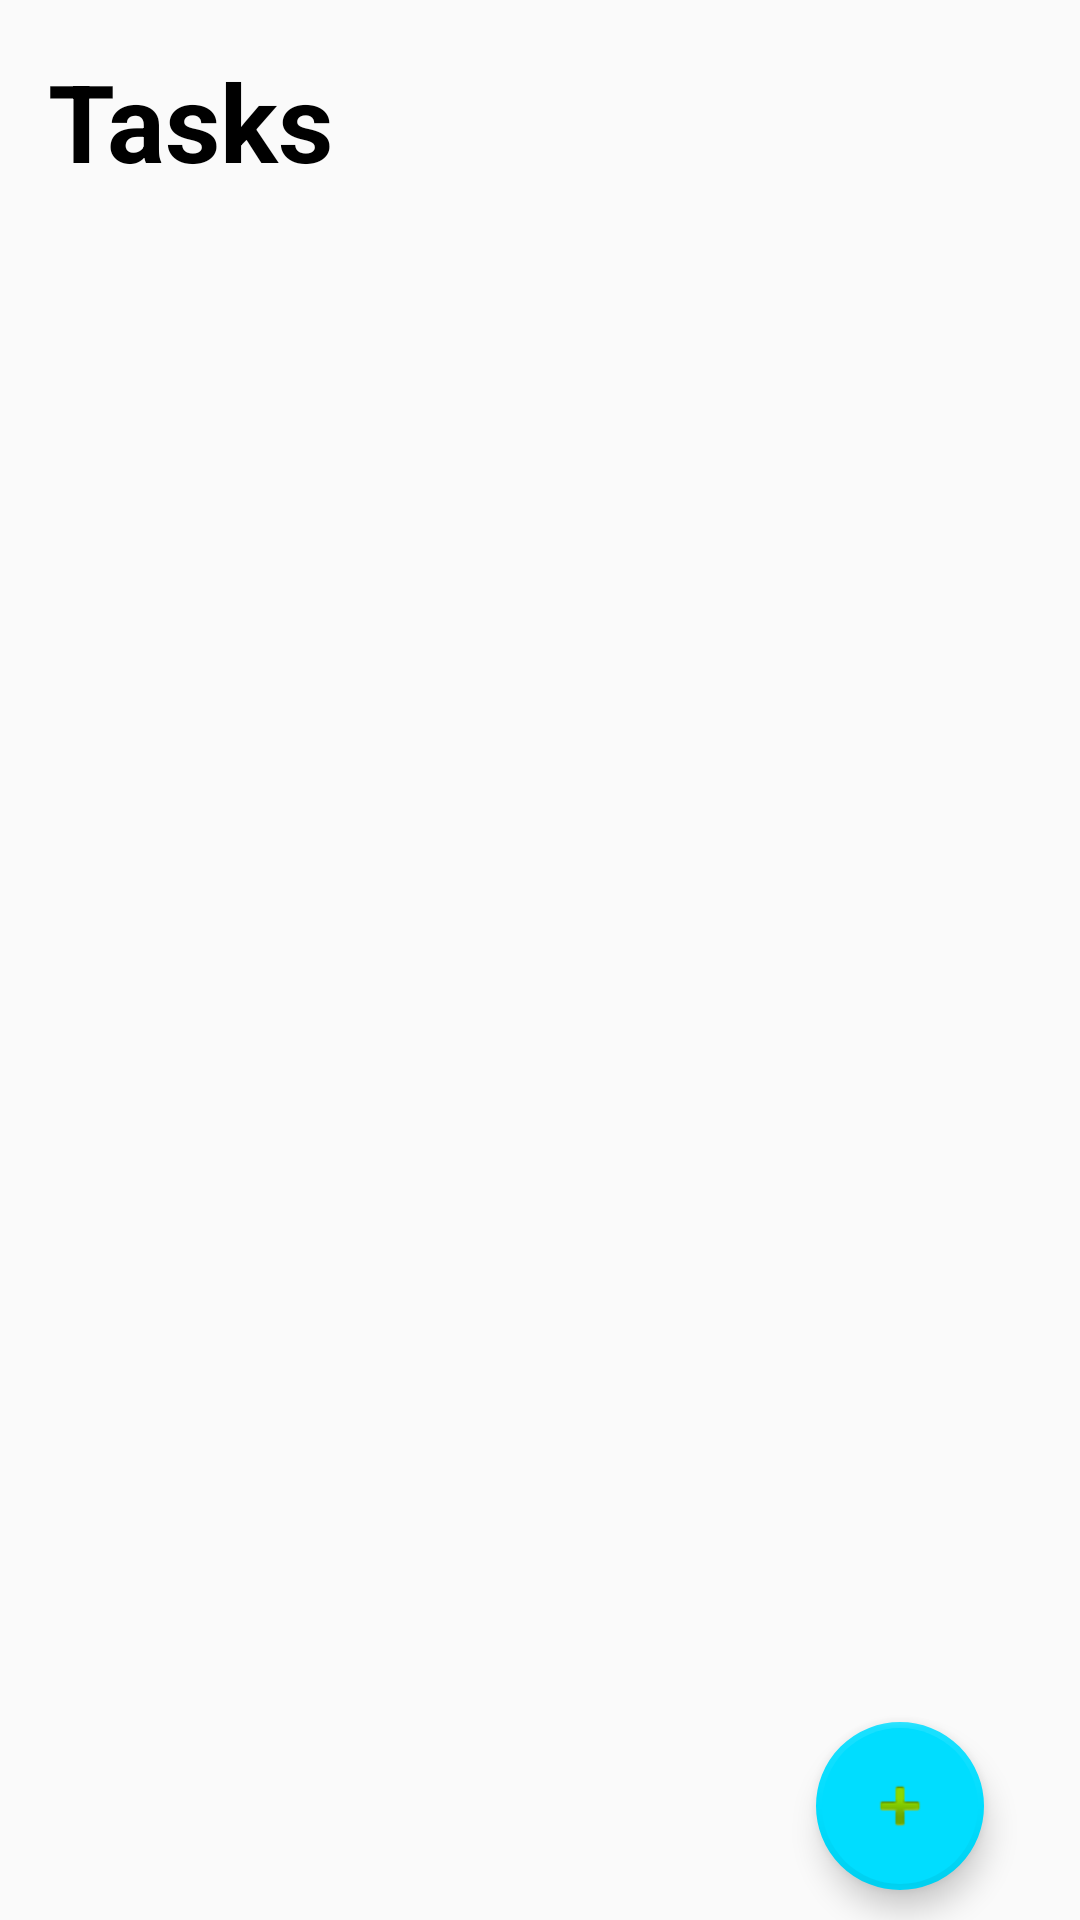

Where to tap for icons on this 1080px x 1920px app screen, as point (x, y):
add: point (900, 1806)
